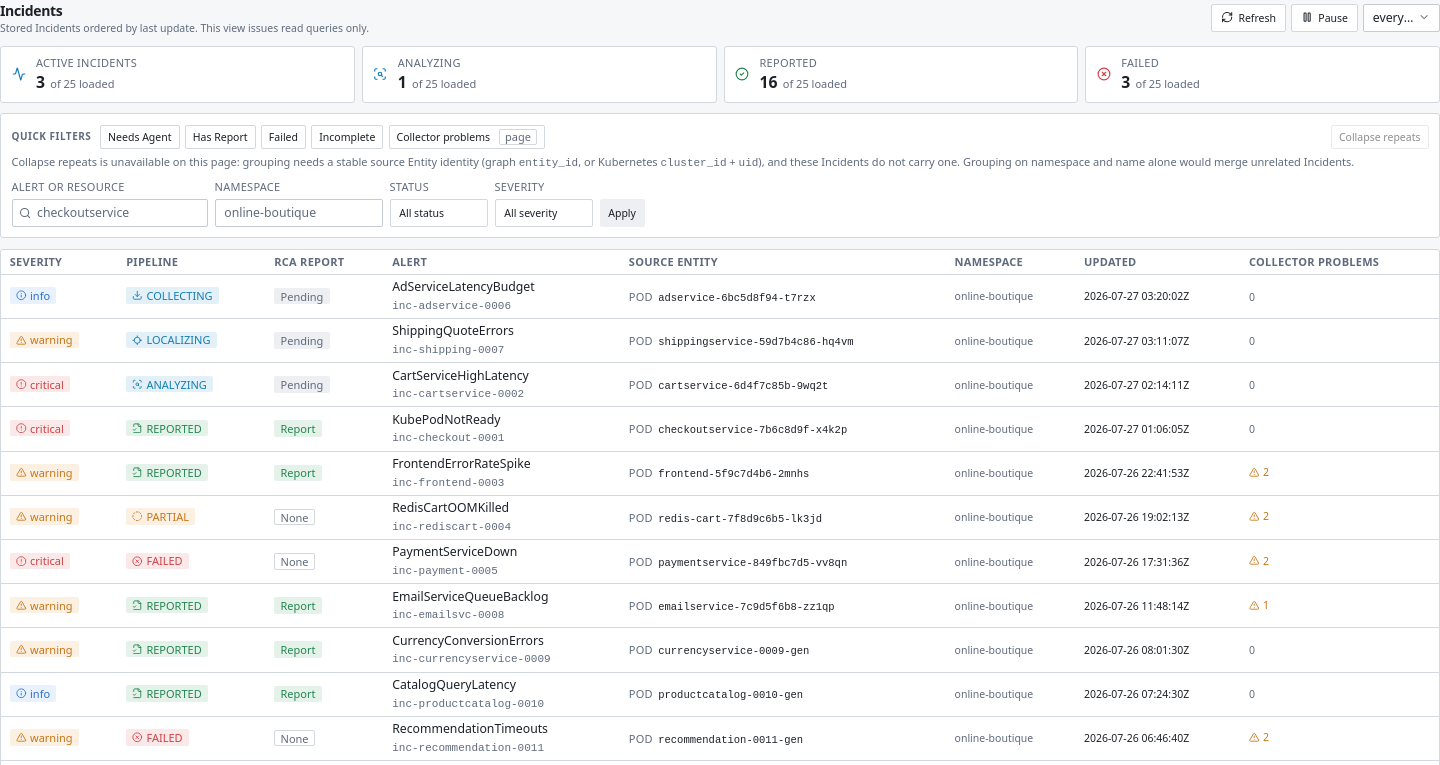
Test: IncidentListView resilience › keeps the previous rows on screen when a refresh fails
This screenshot has width=1440, height=765.
Expected: the link "KubePodNotReady" is shown, [392, 411, 500, 428]
Click the button with aria-label "Refresh now".
click(1248, 18)  # box [1211, 4, 1286, 32]
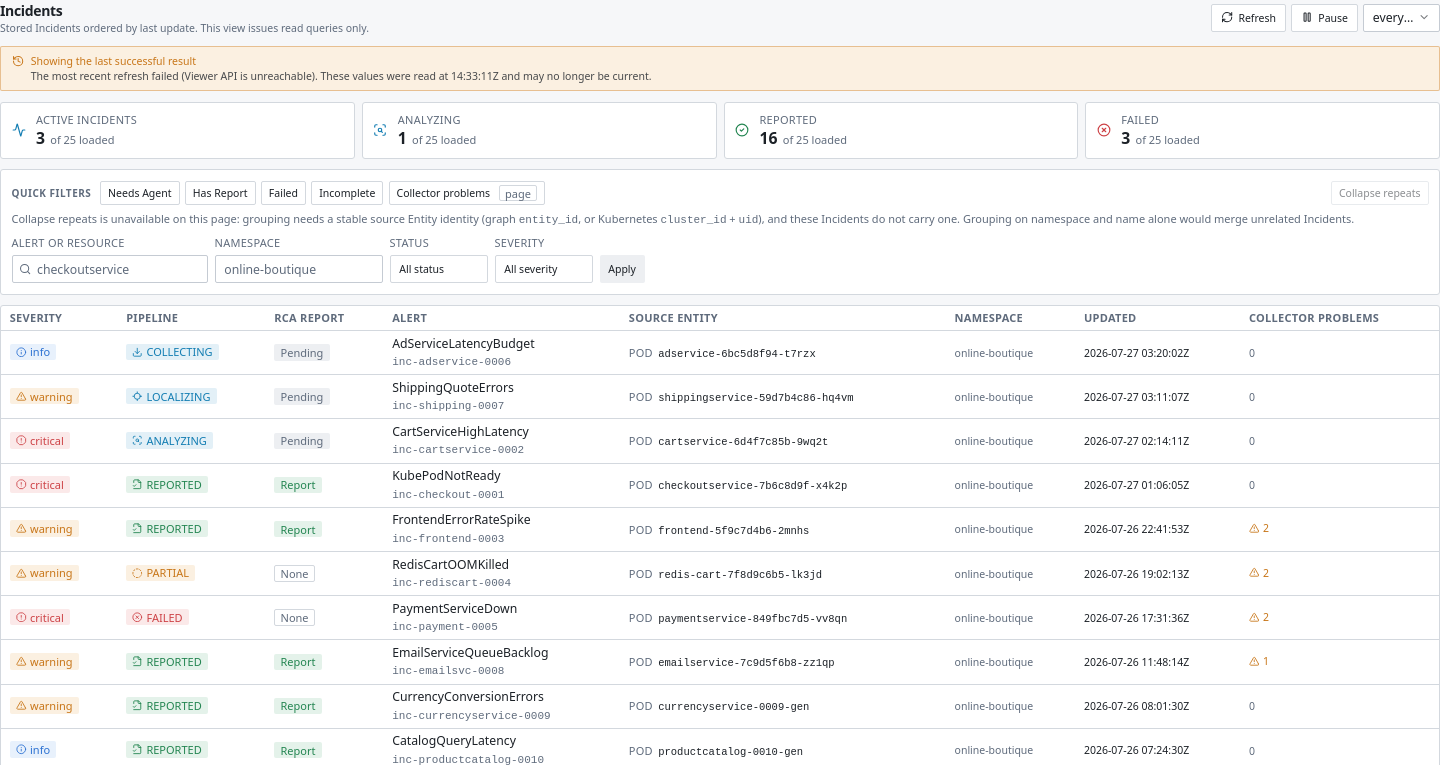
Expected: the link "KubePodNotReady" is shown, [392, 467, 500, 484]
Now the text "Showing the last successful result" is shown, box [31, 54, 196, 68]
Now the text "Viewer API is unreachable" is shown, box [185, 69, 312, 83]
